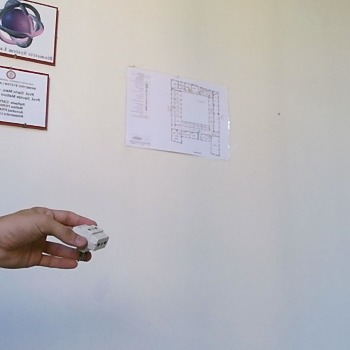hand: (2, 210, 89, 267)
